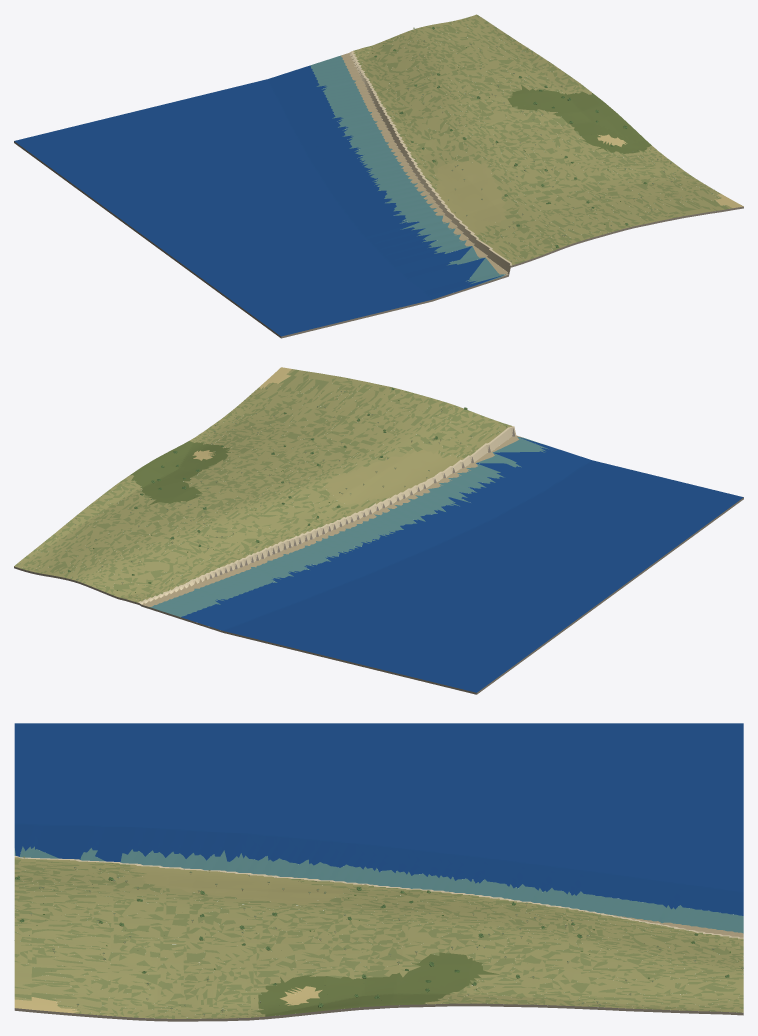
Rendered from parca_-4_-4-yakin.glb.
The picture shows the model from 3 angles, top to bottom: view 1: azimuth 30°, elevation 25°; view 2: azimuth 150°, elevation 25°; view 3: azimuth 270°, elevation 25°; orthographic projection. The views are drawn at different scales.
Parts seen in each view (by area): view 1: parca_-4_-4_arazi, parca_-4_-4_bitkiler; view 2: parca_-4_-4_arazi, parca_-4_-4_bitkiler; view 3: parca_-4_-4_arazi, parca_-4_-4_bitkiler.
Boxes of the visible parts, x1=… form: parca_-4_-4_arazi: x1=14, y1=14, x2=743, y2=338; parca_-4_-4_bitkiler: x1=372, y1=26, x2=714, y2=261; parca_-4_-4_arazi: x1=14, y1=367, x2=743, y2=694; parca_-4_-4_bitkiler: x1=68, y1=374, x2=507, y2=595; parca_-4_-4_arazi: x1=14, y1=723, x2=743, y2=1021; parca_-4_-4_bitkiler: x1=14, y1=856, x2=743, y2=1016.
Bounding box in the file's own units: 1000 × 59.34 × 1001.
